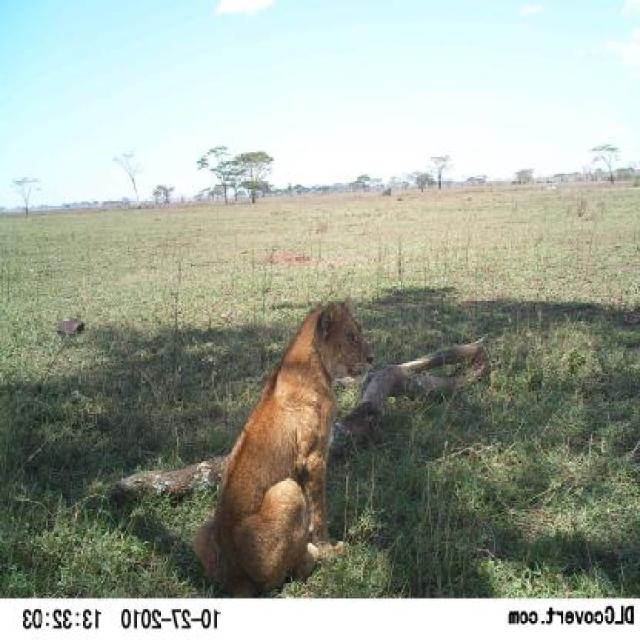Lion: (192, 290, 382, 602)
